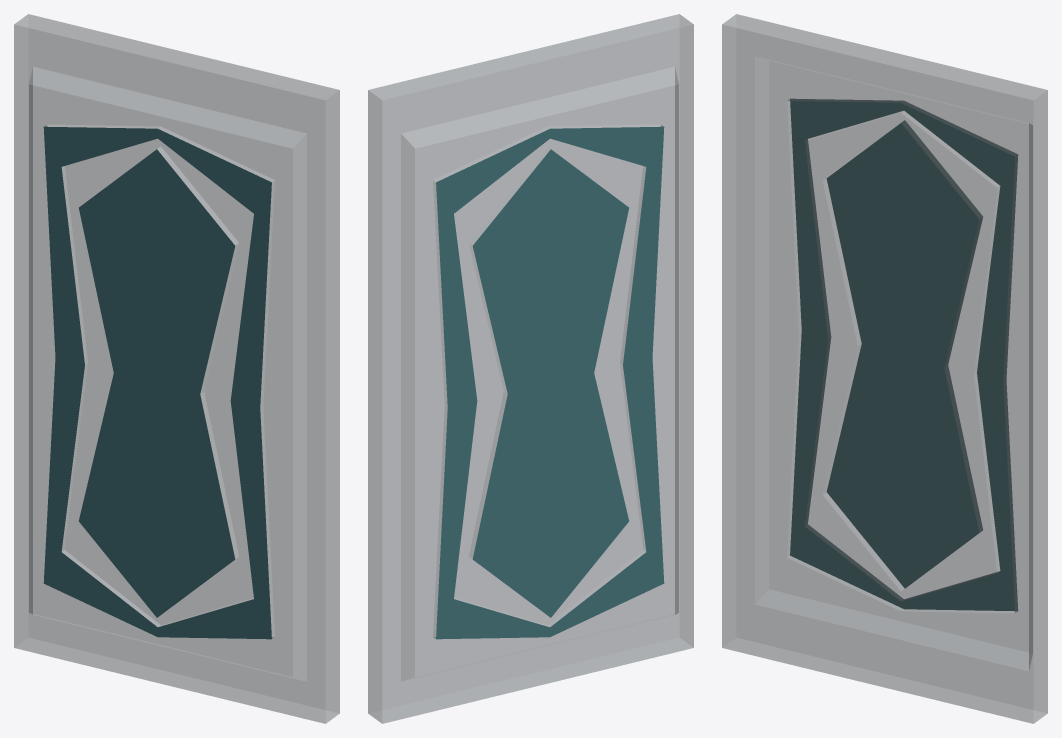
3 views of the same model, side by side, from view 1: azimuth 90°, elevation 25°; view 2: azimuth 150°, elevation 25°; view 3: azimuth 270°, elevation 25° (orthographic).
Visible parts, largest first — view 1: door; view 2: door; view 3: door.
Boxes of the visible parts, x1,y1,x2,y2 form: door: (14,14,339,723); door: (368,14,693,723); door: (722,14,1047,723).
Bounding box in the file's own units: 58.53 × 195 × 92.43.
